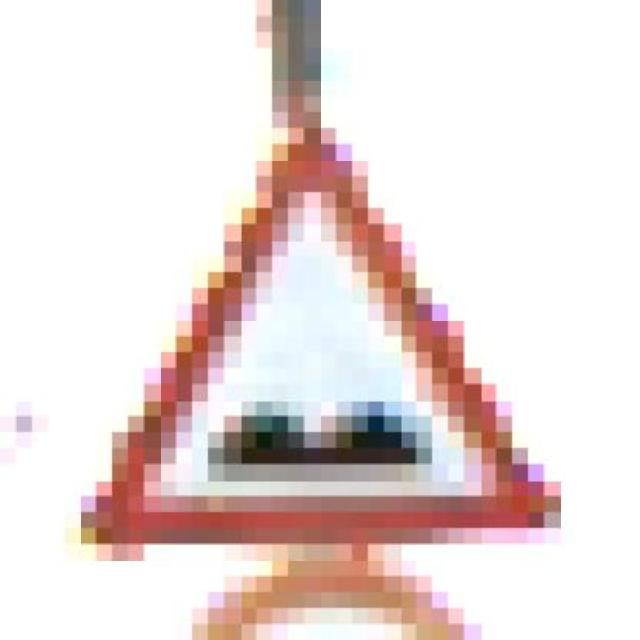Uneven Road: (79, 112, 576, 560)
